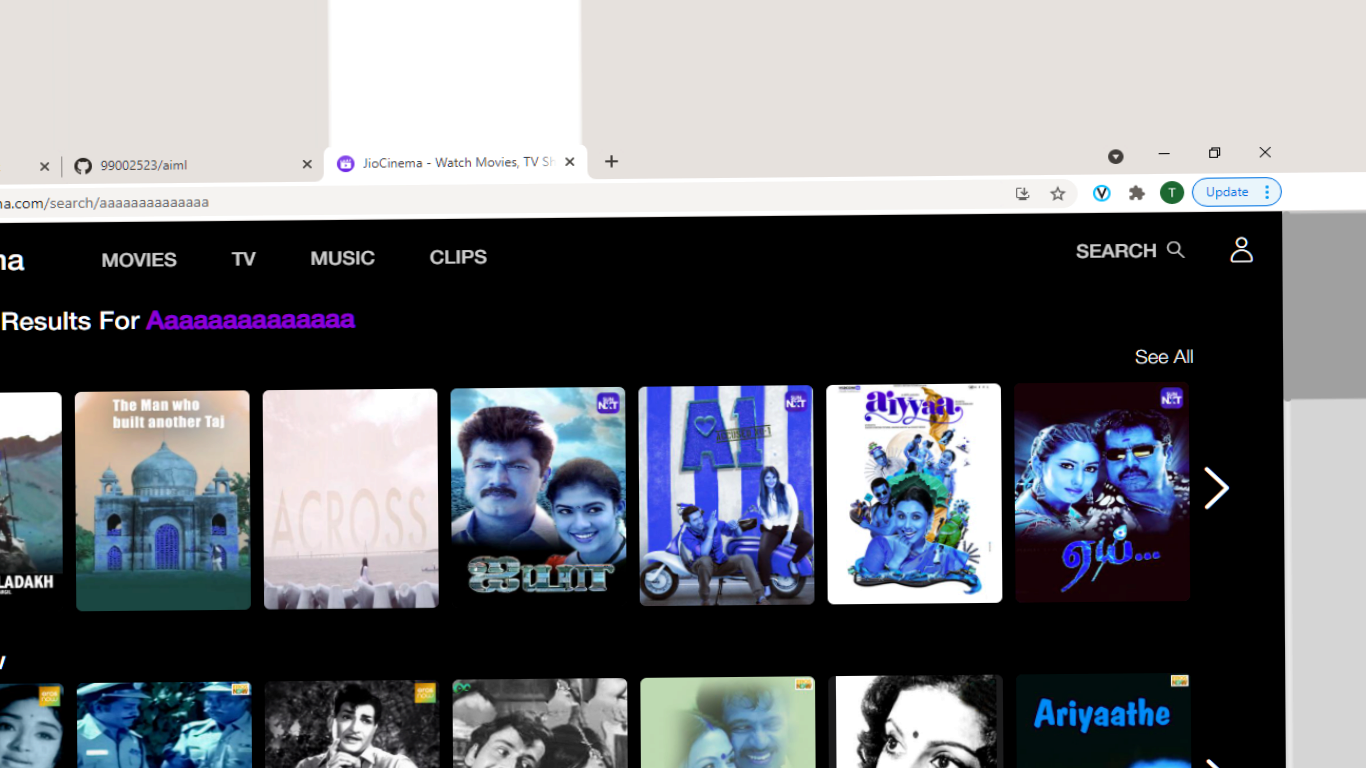noresultsfound: (1, 291, 401, 353)
profileicon: (1218, 231, 1260, 268)
searchicon: (1060, 224, 1186, 271)
